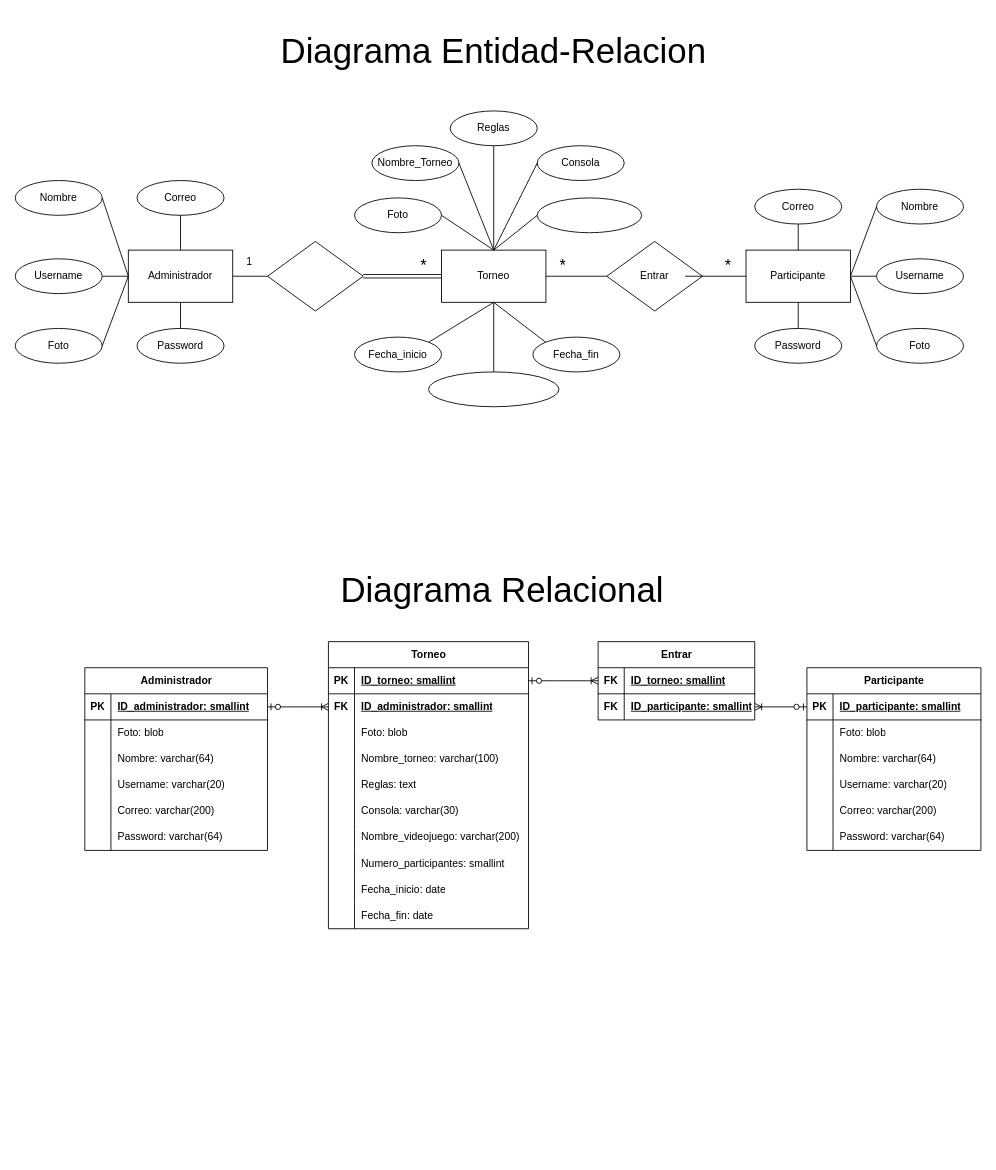
The diagram is 996 pixels wide and 1170 high, and some of its shapes have lost their labels. Here are the shapes that lost their labels. From the top down, the centre of each, then its label:
At pixel 589 215: "Nombre_videojuego".
At pixel 315 276: "Crear".
At pixel 493 389: "Numero_participantes".
